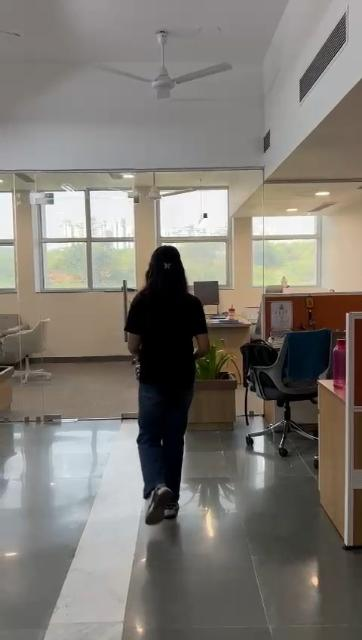floor: (0, 426, 140, 640), (143, 522, 337, 640), (196, 428, 250, 526), (253, 464, 319, 534)
moving-obj: (114, 214, 230, 546)
object: (244, 334, 338, 461), (196, 350, 238, 428), (1, 314, 50, 368), (192, 278, 224, 324), (0, 366, 26, 414)
wall: (38, 292, 128, 351), (224, 176, 256, 310), (319, 207, 362, 288), (15, 202, 36, 316)
